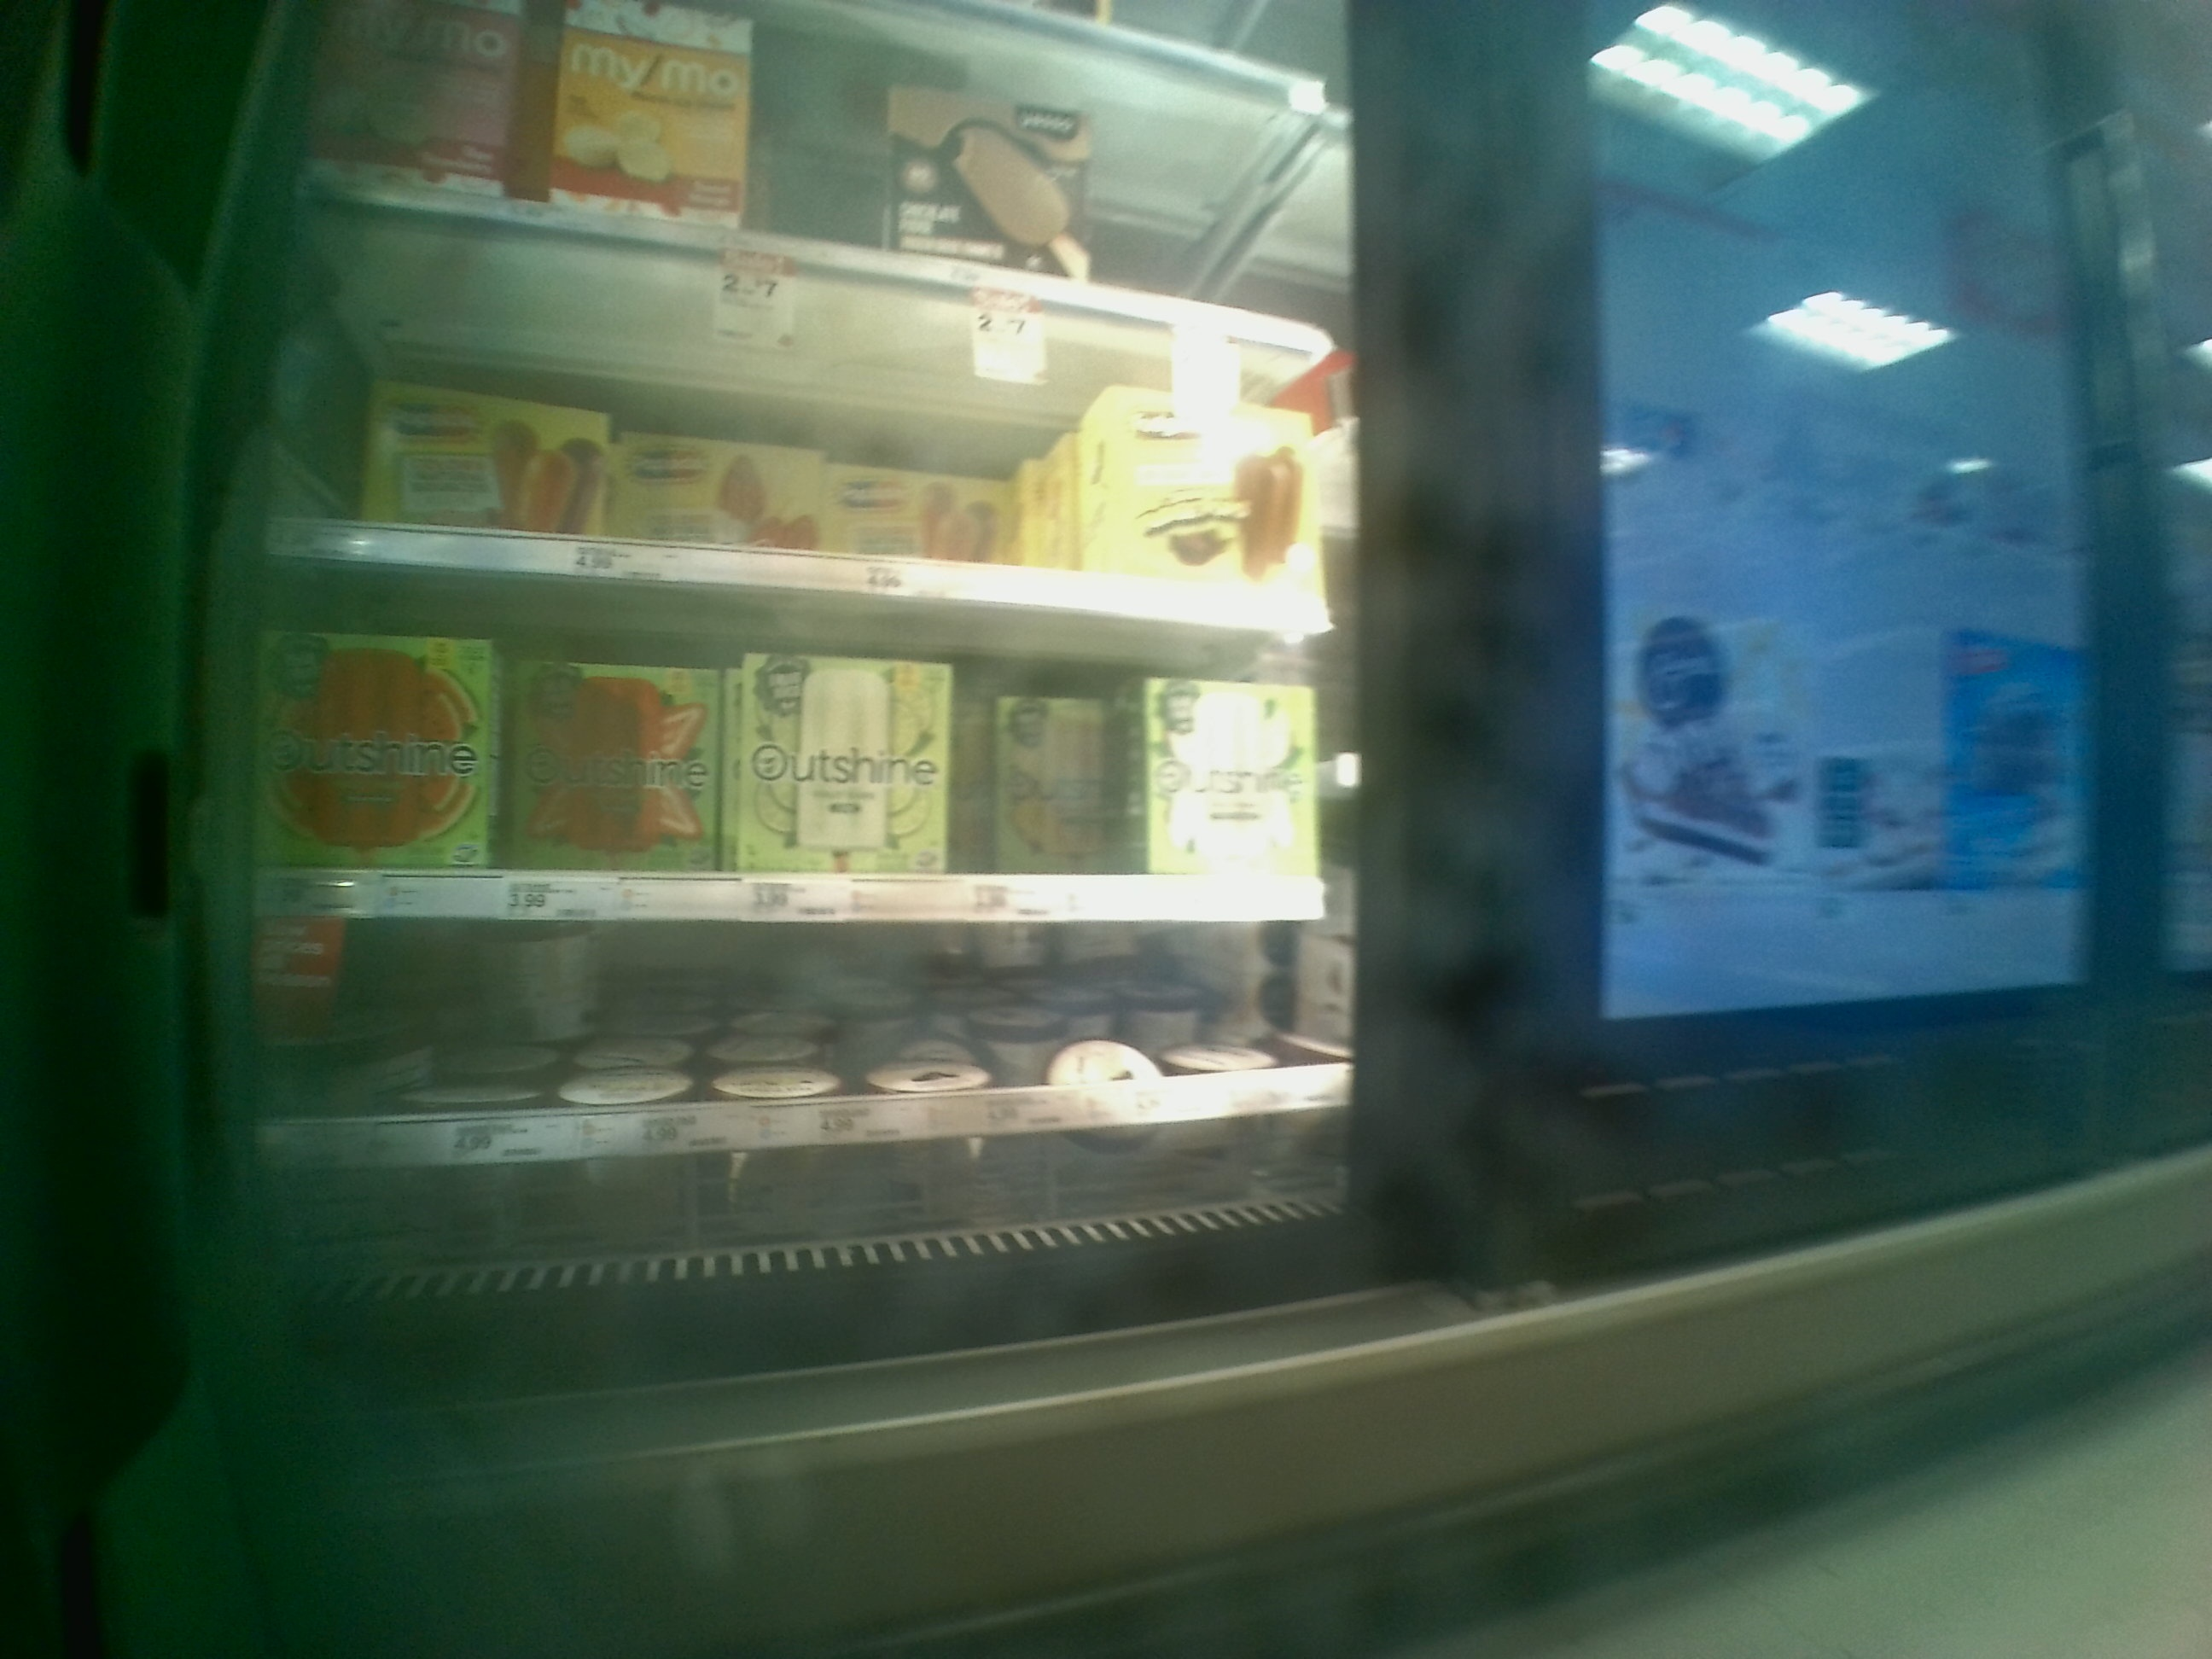shelf: (273, 193, 1332, 636), (263, 566, 1331, 918), (261, 917, 1372, 1202)
